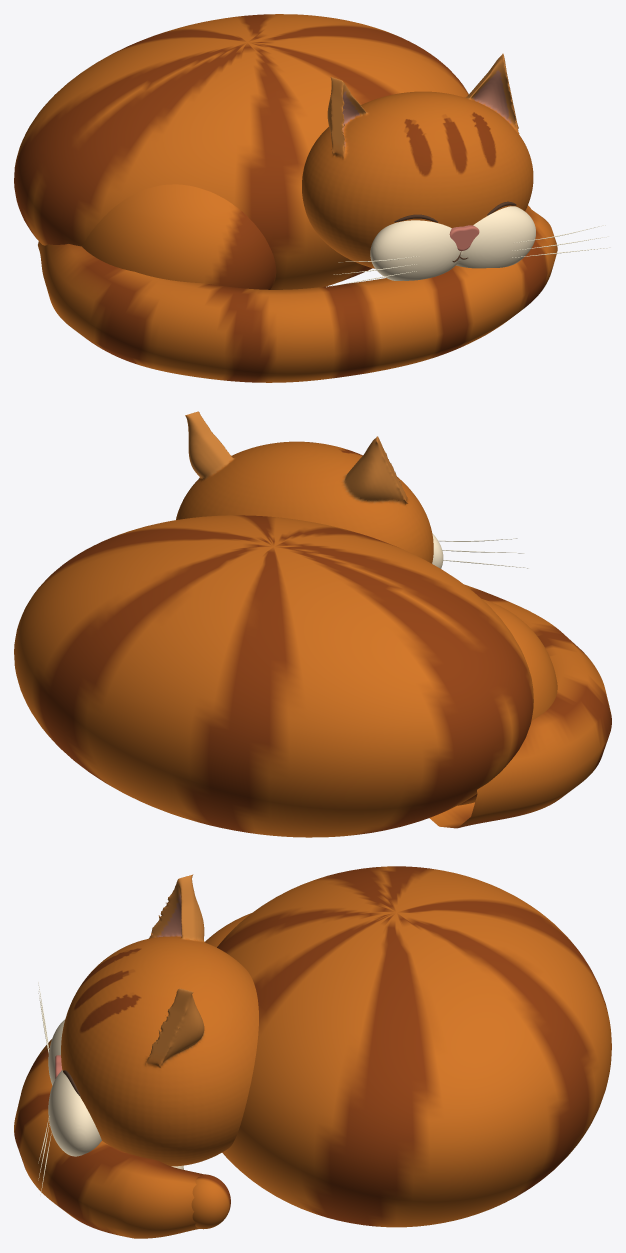
Rendered from sleeping-cat-refined.glb.
The picture shows the model from 3 angles, top to bottom: view 1: azimuth 30°, elevation 25°; view 2: azimuth 150°, elevation 25°; view 3: azimuth 270°, elevation 25°; orthographic projection. The views are drawn at different scales.
Parts seen in each view (by area): view 1: Curled torso, Wrapped striped tail, Broad rounded face, Curled haunch, Muzzle cheeks, Pink rounded triangular nose; view 2: Curled torso, Broad rounded face, Wrapped striped tail, Curled haunch; view 3: Curled torso, Broad rounded face, Wrapped striped tail, Muzzle cheeks, Rounded tail tip.
Part boxes in pixels (x1,y1,x2,y2): Curled torso: (14,14,468,289); Wrapped striped tail: (38,207,557,382); Broad rounded face: (302,53,533,268); Curled haunch: (82,184,276,289); Muzzle cheeks: (370,206,535,280); Pink rounded triangular nose: (449,225,479,250); Curled torso: (14,515,533,837); Broad rounded face: (176,411,433,563); Wrapped striped tail: (429,584,611,828); Curled haunch: (458,598,557,805); Curled torso: (217,866,611,1227); Broad rounded face: (61,874,258,1166); Wrapped striped tail: (14,1039,202,1238); Muzzle cheeks: (48,1019,101,1156); Rounded tail tip: (191,1174,230,1229).
Size of the model in its own units: 2.12 by 1.2 by 2.14.
